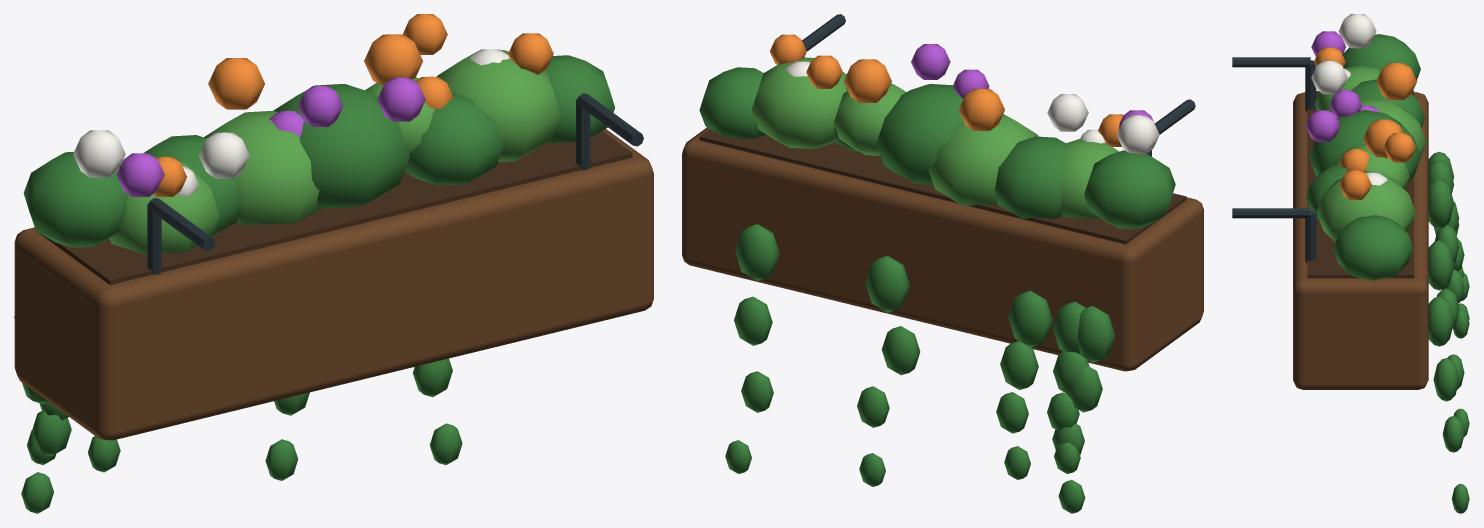
Rendered from rt_flowers_b.glb.
The picture shows the model from 3 angles, left to right: view 1: azimuth 30°, elevation 25°; view 2: azimuth 150°, elevation 25°; view 3: azimuth 270°, elevation 25°; orthographic projection. The views are drawn at different scales.
Visible parts, largest first — view 1: rt_flowers_b_body; view 2: rt_flowers_b_body; view 3: rt_flowers_b_body.
Boxes of the visible parts, x1=… form: rt_flowers_b_body: x1=14, y1=14, x2=653, y2=513; rt_flowers_b_body: x1=682, y1=14, x2=1203, y2=513; rt_flowers_b_body: x1=1232, y1=14, x2=1469, y2=513.
Size of the model in its own units: 1.34 by 1.12 by 0.6652.
